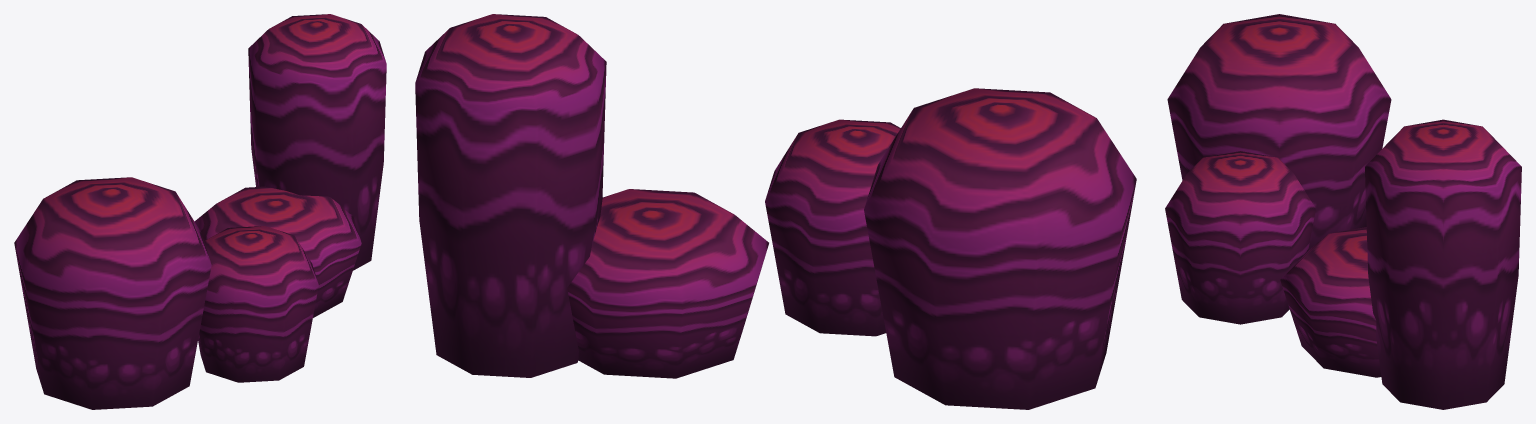
File: Coral_35_Group.FBX
3 renders of one model, left to right at view 1: azimuth 30°, elevation 25°; view 2: azimuth 150°, elevation 25°; view 3: azimuth 270°, elevation 25°, orthographic. The views are drawn at different scales.
Parts seen in each view (by area): view 1: Coral_35_group; view 2: Coral_35_group; view 3: Coral_35_group.
Part boxes in pixels (left/top/right/bottom): Coral_35_group: left=14, top=14, right=386, bottom=409; Coral_35_group: left=415, top=14, right=1136, bottom=409; Coral_35_group: left=1165, top=14, right=1521, bottom=409.
Size of the model in its own units: 38.84 by 19.97 by 25.48.
